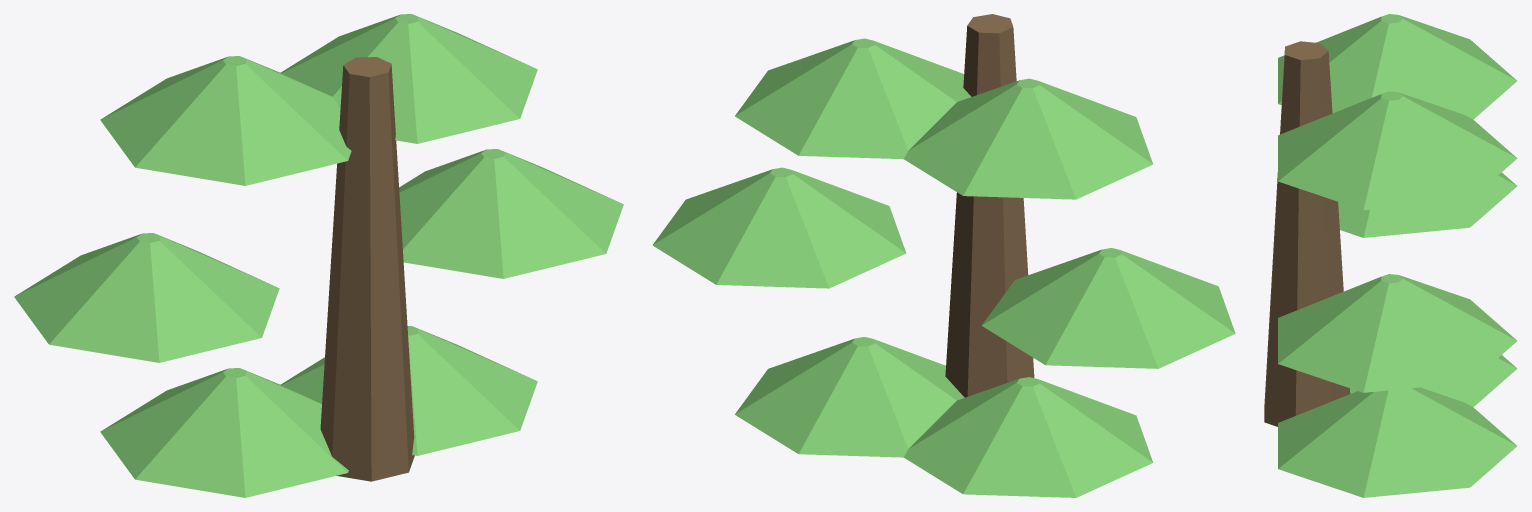
The model's file is drk_fern.fbx.
3 renders of one model, left to right at view 1: azimuth 30°, elevation 25°; view 2: azimuth 150°, elevation 25°; view 3: azimuth 270°, elevation 25°, orthographic. The views are drawn at different scales.
Parts seen in each view (by area): view 1: GEO-fern_stem, GEO-fern_leaf.003, GEO-fern_leaf.002, GEO-fern_leaf.004, GEO-fern_leaf, GEO-fern_leaf.001, GEO-fern_leaf.005; view 2: GEO-fern_leaf, GEO-fern_leaf.003, GEO-fern_leaf.002, GEO-fern_leaf.004, GEO-fern_leaf.001, GEO-fern_leaf.005, GEO-fern_stem; view 3: GEO-fern_leaf.001, GEO-fern_leaf, GEO-fern_leaf.005, GEO-fern_stem, GEO-fern_leaf.002, GEO-fern_leaf.003, GEO-fern_leaf.004.
Part boxes in pixels (x1,y1,x2,y2): GEO-fern_stem: (320, 57, 414, 481); GEO-fern_leaf.003: (14, 233, 279, 362); GEO-fern_leaf.002: (100, 56, 351, 185); GEO-fern_leaf.004: (100, 368, 348, 497); GEO-fern_leaf: (399, 149, 623, 278); GEO-fern_leaf.001: (280, 14, 537, 143); GEO-fern_leaf.005: (280, 326, 537, 455); GEO-fern_leaf: (652, 167, 906, 288); GEO-fern_leaf.003: (981, 248, 1235, 368); GEO-fern_leaf.002: (904, 78, 1153, 199); GEO-fern_leaf.004: (904, 377, 1153, 497); GEO-fern_leaf.001: (735, 38, 971, 159); GEO-fern_leaf.005: (735, 337, 964, 457); GEO-fern_stem: (945, 14, 1034, 397); GEO-fern_leaf.001: (1278, 91, 1517, 210); GEO-fern_leaf: (1278, 274, 1516, 392); GEO-fern_leaf.005: (1278, 387, 1516, 497); GEO-fern_stem: (1264, 41, 1350, 426); GEO-fern_leaf.002: (1278, 14, 1516, 119); GEO-fern_leaf.003: (1338, 172, 1517, 237); GEO-fern_leaf.004: (1350, 355, 1517, 407).
Bounding box in the file's own units: 107 × 70 × 44.21.
